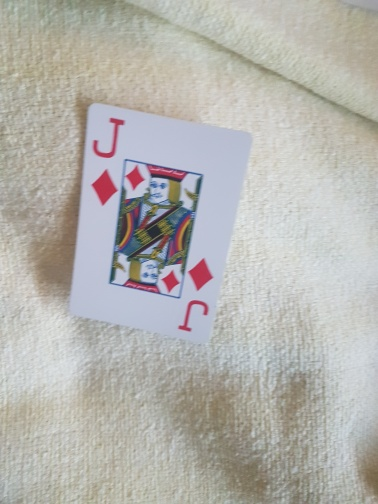jack: (68, 105, 252, 345)
